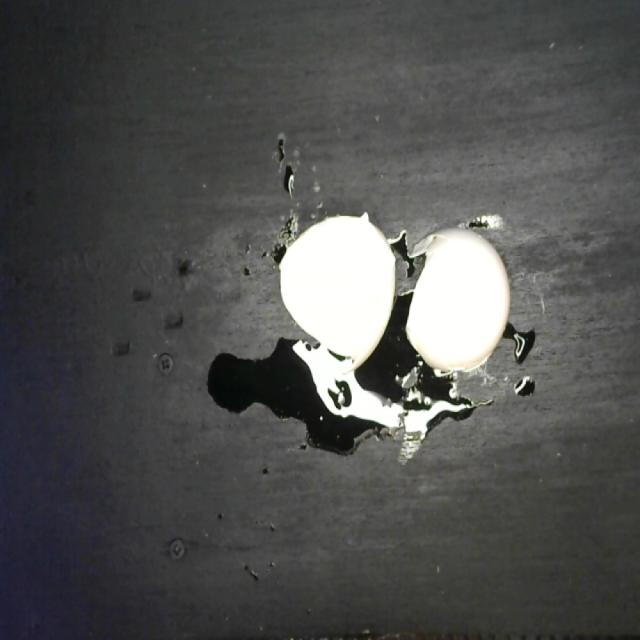biodegradable: (276, 188, 514, 392)
